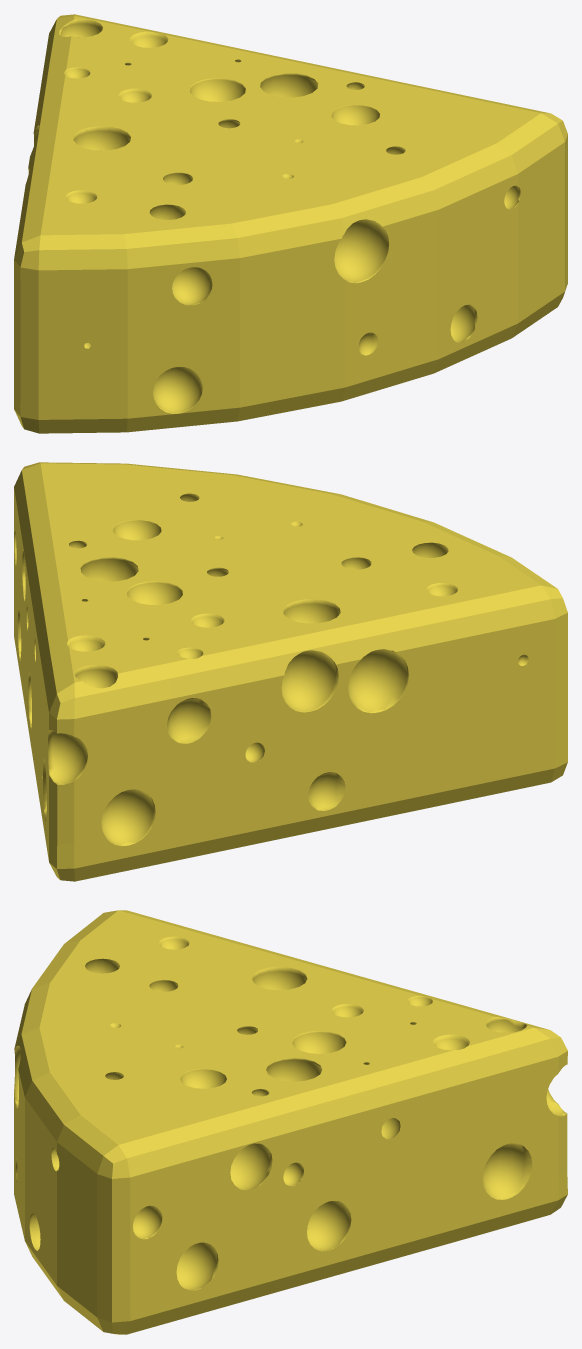
File: cheese.glb
The picture shows the model from 3 angles, top to bottom: view 1: azimuth 30°, elevation 25°; view 2: azimuth 150°, elevation 25°; view 3: azimuth 270°, elevation 25°; orthographic projection. The views are drawn at different scales.
Visible parts, largest first — view 1: Circle; view 2: Circle; view 3: Circle.
Boxes of the visible parts, box(x1,y1,x2,y2) form: Circle: box(14, 14, 567, 433); Circle: box(14, 462, 567, 881); Circle: box(14, 910, 567, 1334).
Size of the model in its own units: 1.07 by 0.3699 by 0.9794.
